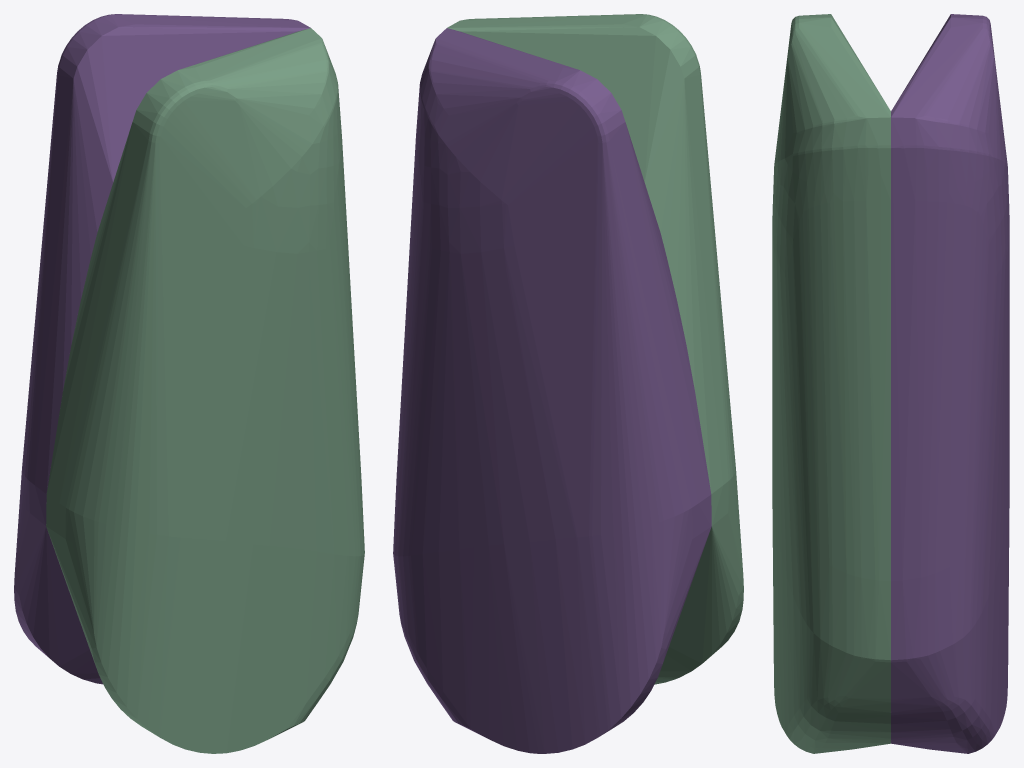
File: right_index_proximal.obj
The picture shows the model from 3 angles, left to right: view 1: azimuth 30°, elevation 25°; view 2: azimuth 150°, elevation 25°; view 3: azimuth 270°, elevation 25°; orthographic projection.
Parts seen in each view (by area): view 1: geometry_0, geometry_1; view 2: geometry_1, geometry_0; view 3: geometry_0, geometry_1.
Part boxes in pixels (x1,y1,x2,y2): geometry_0: (46, 28, 364, 753); geometry_1: (14, 14, 310, 684); geometry_1: (393, 28, 711, 753); geometry_0: (447, 14, 743, 684); geometry_0: (772, 14, 890, 753); geometry_1: (891, 14, 1009, 753).
Bounding box in the file's own units: 0.0213 × 0.0452 × 0.0143.
